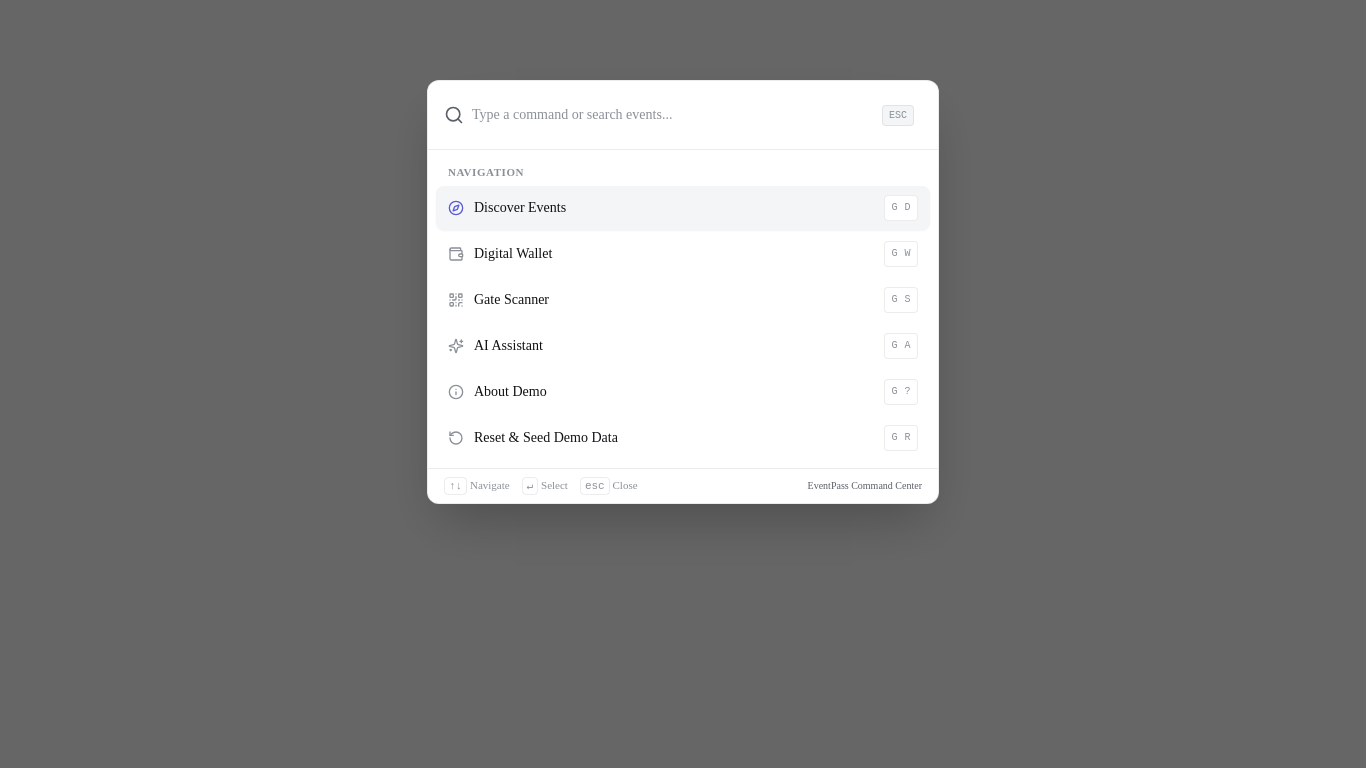
Scenario: CommandMenu Search & Navigation › filters navigation items when typing
Expected: the text "Discover Events" is shown, x1=474 y1=198 x2=566 y2=218
Expected: the text "Digital Wallet" is shown, x1=474 y1=244 x2=552 y2=264
Type "wallet" into the field named "search events and pages" at (671, 115), box x1=472 y1=93 x2=870 y2=137
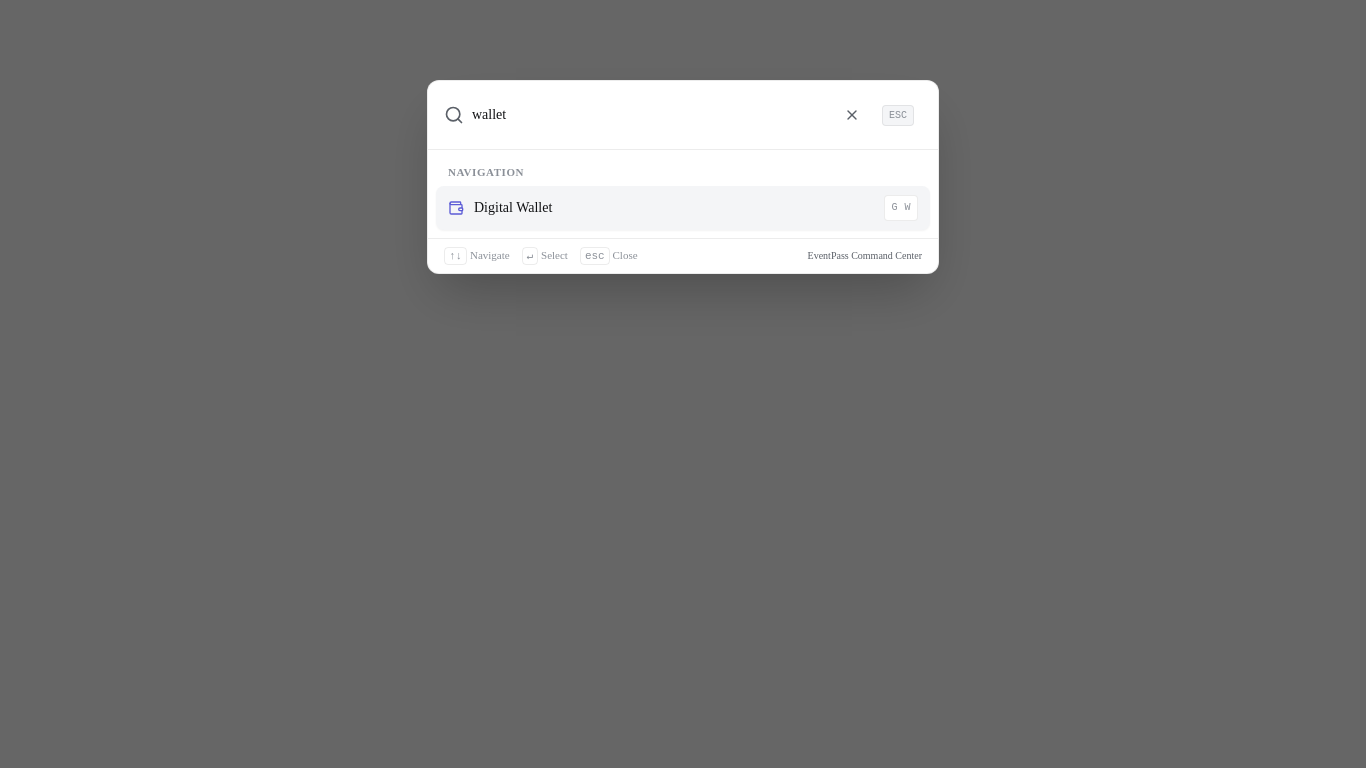
Expected: the text "Digital Wallet" is shown, x1=474 y1=198 x2=552 y2=218
Expected: the button "Discover Events" is gone
